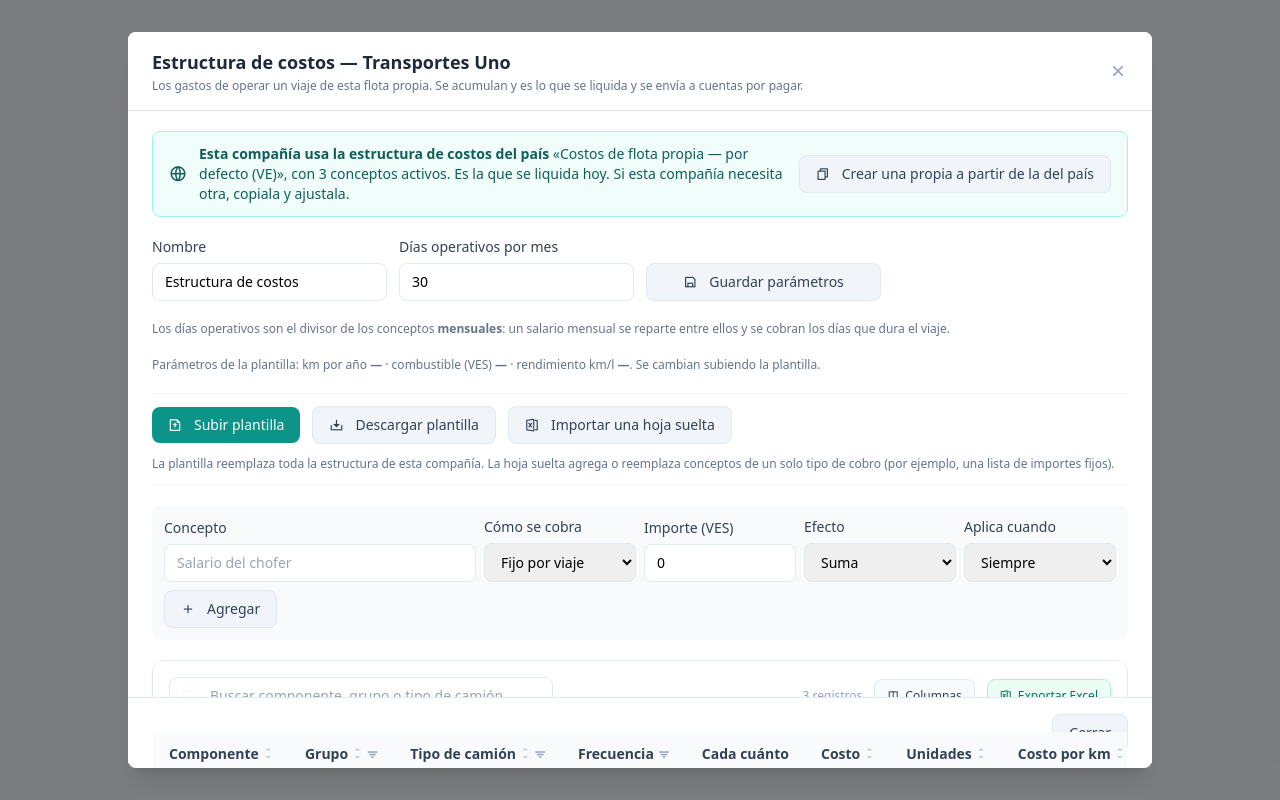
Test: CostStructureModal: estructura heredada del país › no deja agregar un concepto suelto que taparía a la del país
The image size is (1280, 800).
Check: the text "Esta compañía usa la estructura de costos del país" is shown, box [199, 144, 549, 163]
Type "Peaje" into the field with placeholder "Salario del chofer" at (320, 563), box [164, 544, 476, 582]
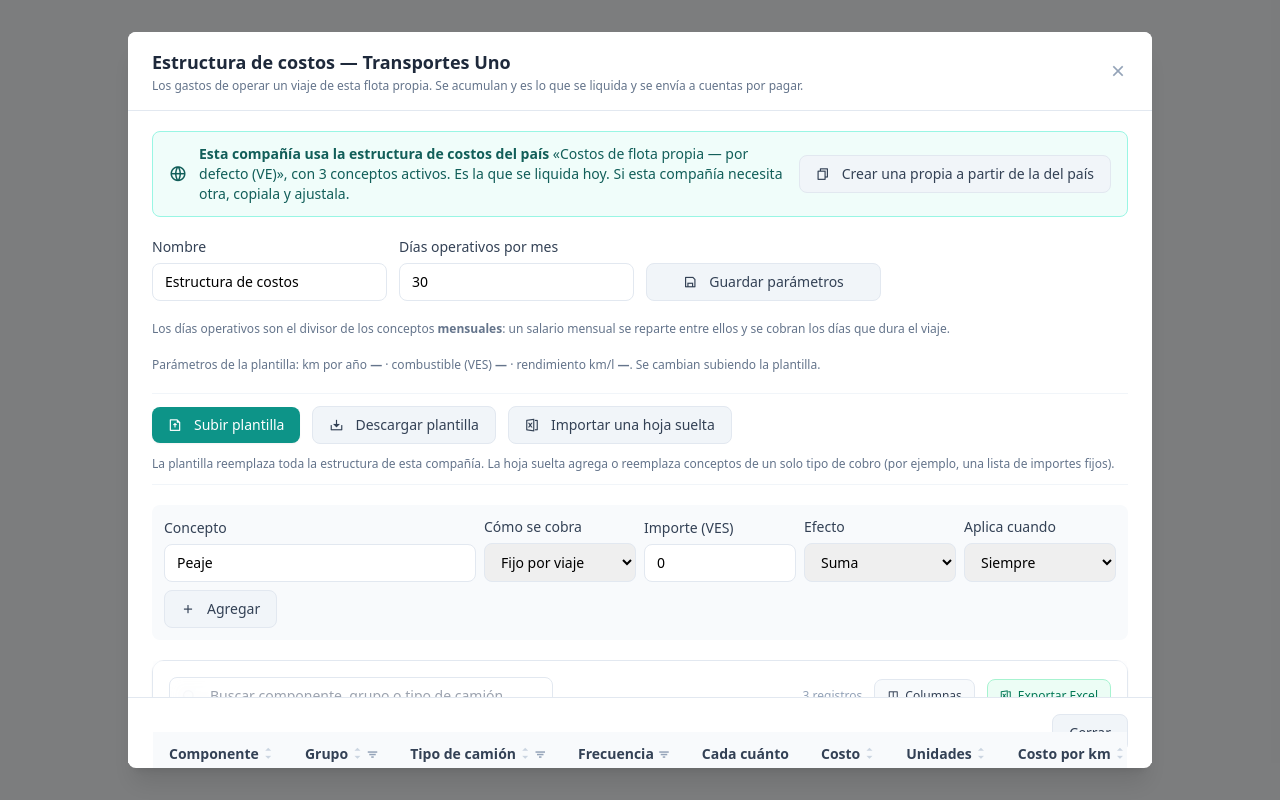
Click the button "Agregar" at (221, 609), box [164, 590, 277, 628]
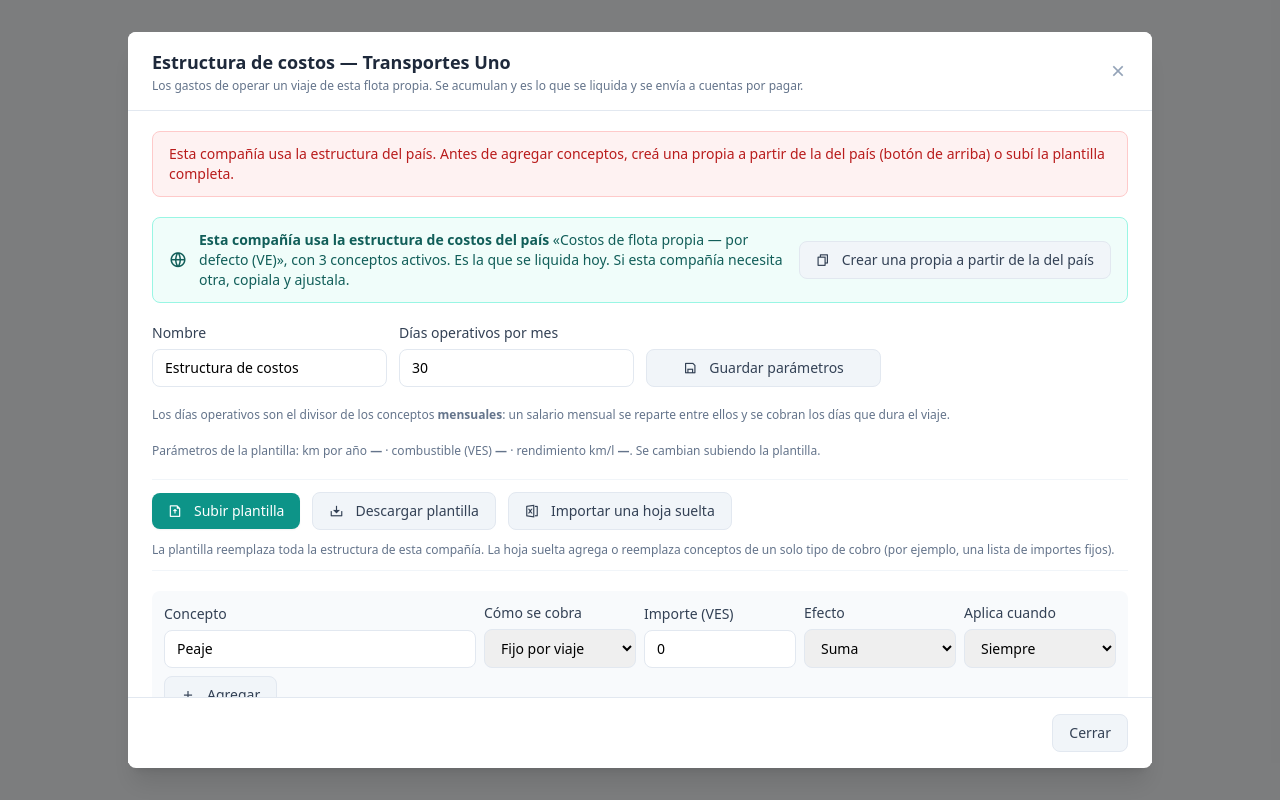
Check: the text "Antes de agregar conceptos" is shown, box [169, 144, 1105, 183]
